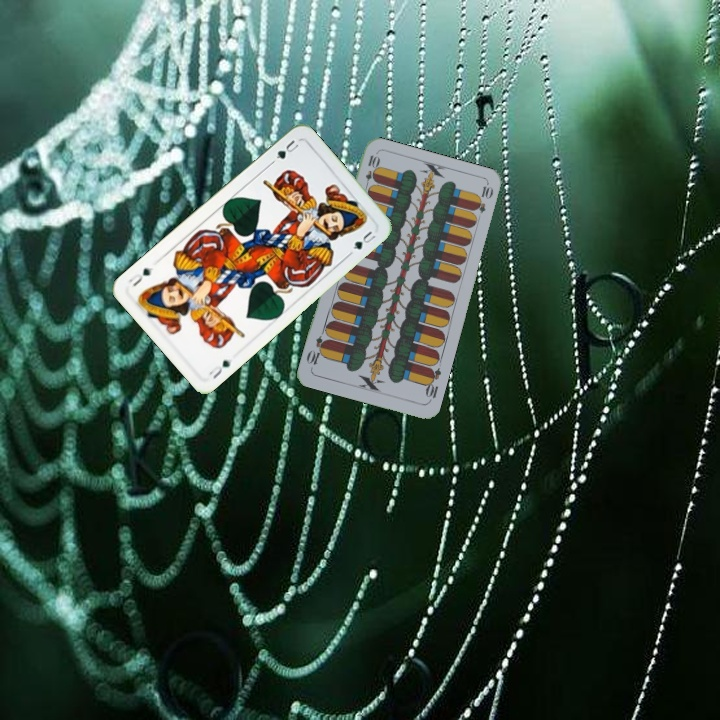E10: (421, 364, 444, 404), (361, 151, 380, 191)
GU: (267, 136, 301, 166), (205, 356, 234, 382)
